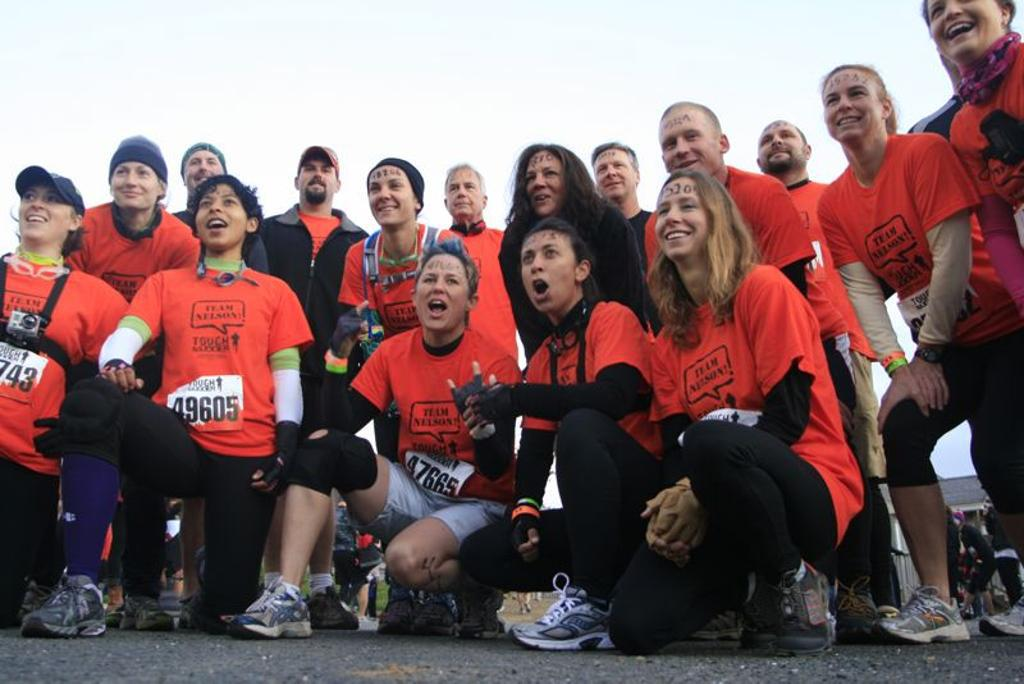face: (928, 1, 1004, 54), (522, 239, 577, 310), (660, 118, 722, 179), (823, 76, 883, 138), (655, 188, 709, 255), (417, 261, 469, 330), (19, 184, 72, 239), (198, 190, 248, 246), (111, 155, 160, 206), (368, 174, 416, 225), (526, 158, 566, 214), (758, 124, 806, 166), (183, 151, 225, 194), (595, 153, 635, 197), (298, 156, 338, 198), (447, 178, 484, 214)
